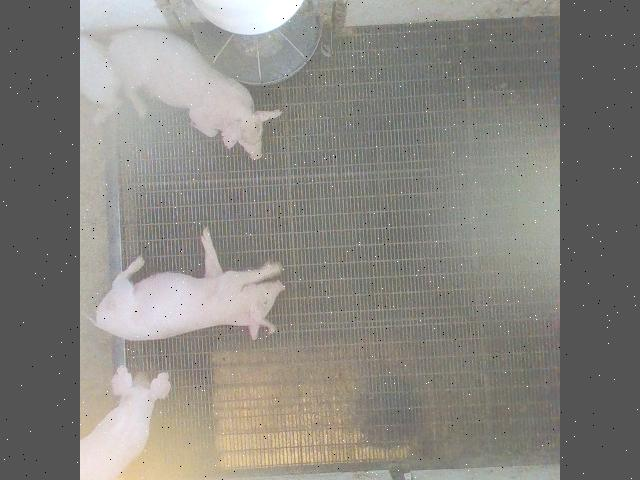pig-1: (94, 228, 284, 339)
